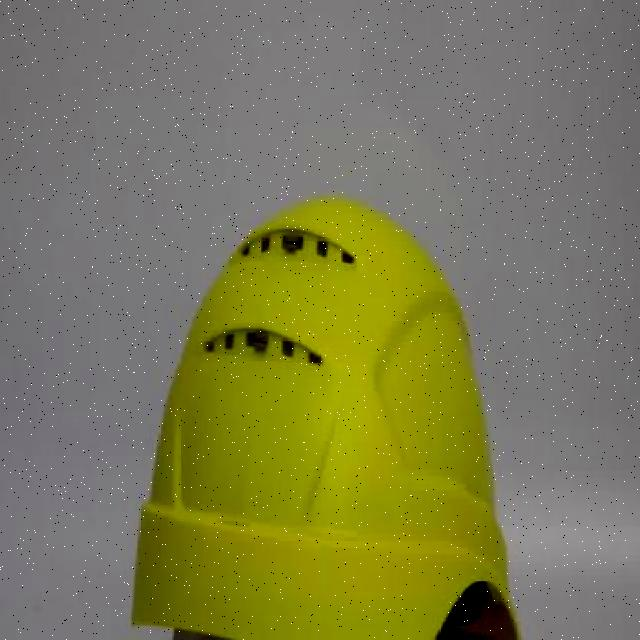Helmet: (129, 187, 523, 640)
